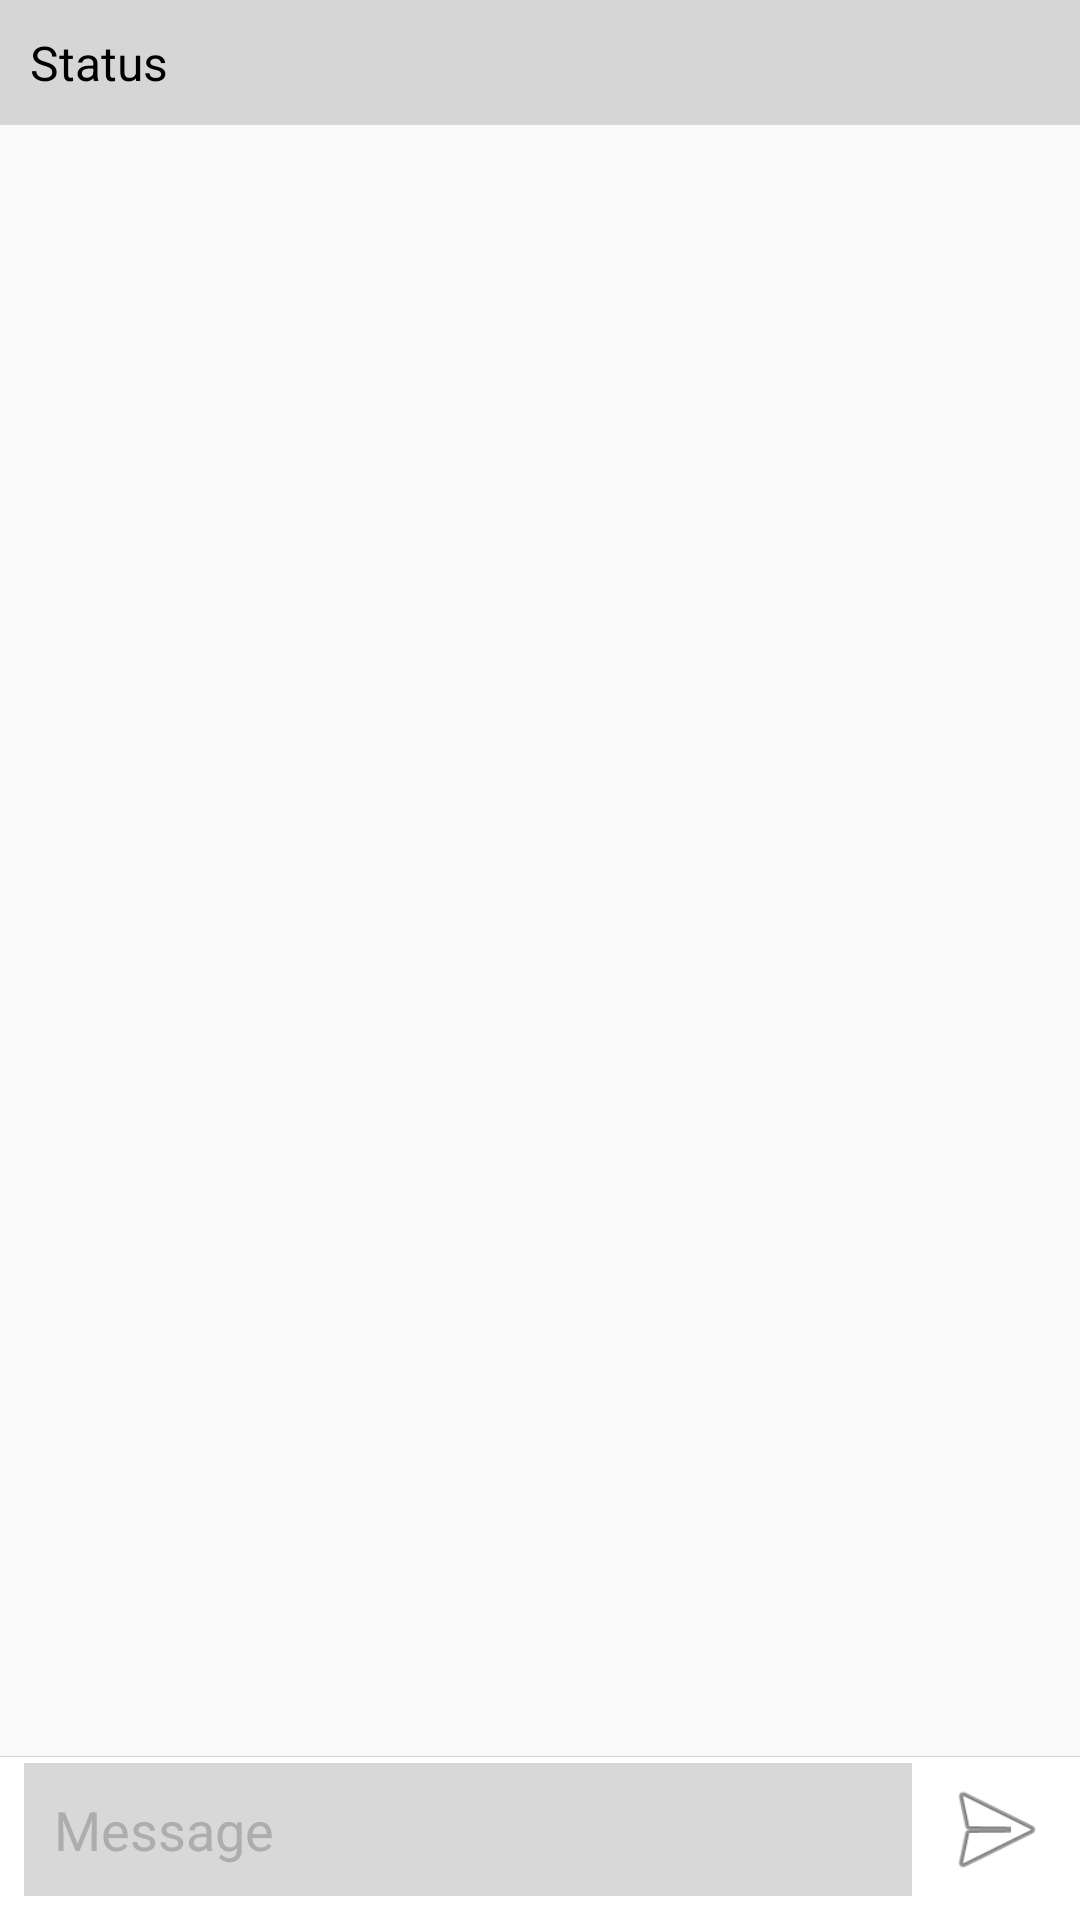

Icons on this 1080px x 1920px Android screen, each with its box as bbox=(x1, y1, x2, y2):
Send: bbox=(958, 1792, 1036, 1868)
